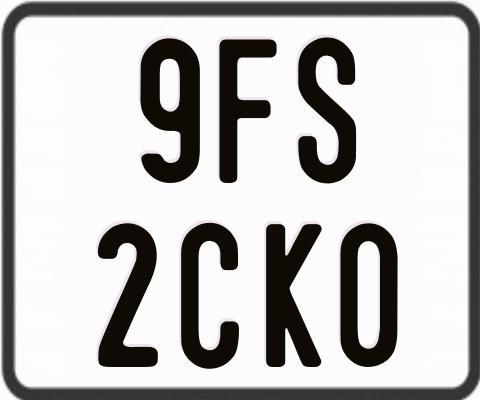0: (337, 220, 396, 365)
2: (98, 220, 162, 364)
9: (140, 37, 205, 188)
C: (181, 222, 242, 371)
F: (218, 36, 279, 186)
K: (266, 221, 325, 369)
S: (296, 35, 356, 183)
